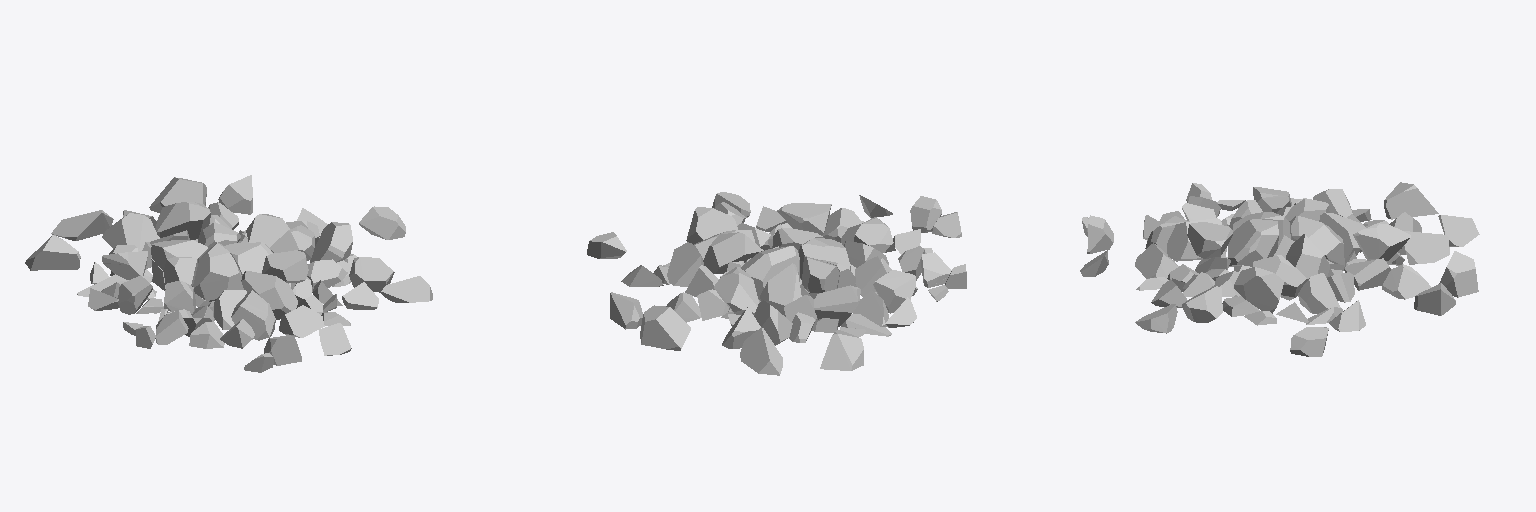
File: Rock Debris Obj.obj
3 renders of one model, left to right at view 1: azimuth 30°, elevation 25°; view 2: azimuth 150°, elevation 25°; view 3: azimuth 270°, elevation 25°, orthographic.
Visible parts, largest first — view 1: Cube_cell.071_Cube_cell.067; view 2: Cube_cell.071_Cube_cell.067; view 3: Cube_cell.071_Cube_cell.067.
Part boxes in pixels (x1,y1,x2,y2): Cube_cell.071_Cube_cell.067: (25,175,432,372); Cube_cell.071_Cube_cell.067: (587,192,966,375); Cube_cell.071_Cube_cell.067: (1080,182,1479,356).
Bounding box in the file's own units: 6.78 × 1.17 × 7.29.